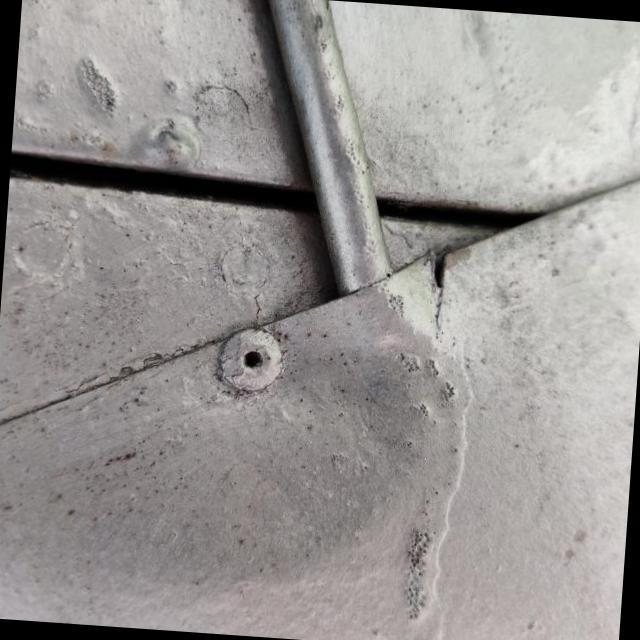Rupture: (398, 230, 485, 344)
